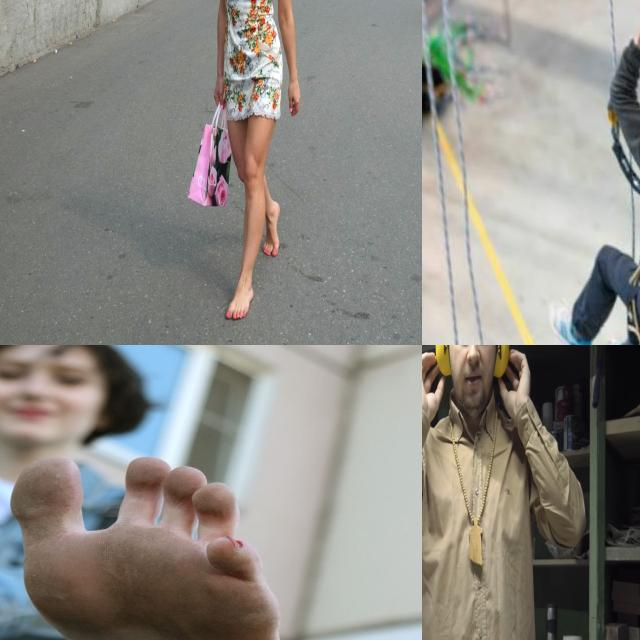Barefoots: (10, 456, 284, 640), (226, 284, 253, 320), (263, 201, 280, 257)
Ear-protection: (437, 345, 512, 414)
